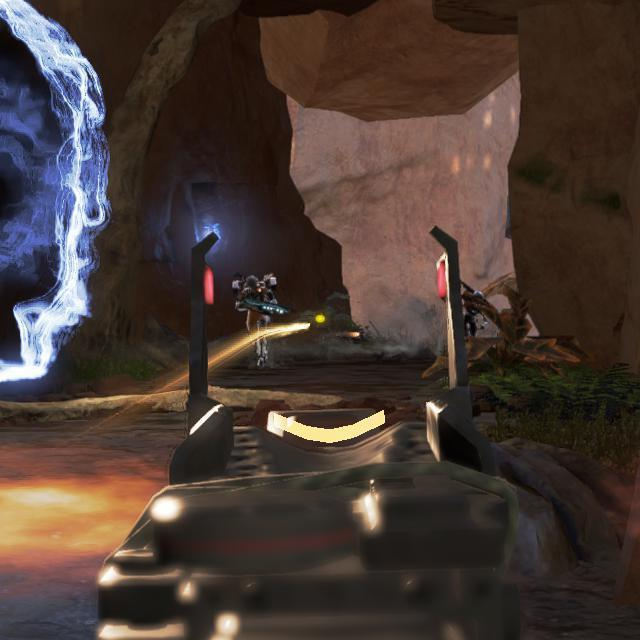avatar: (232, 272, 288, 368)
